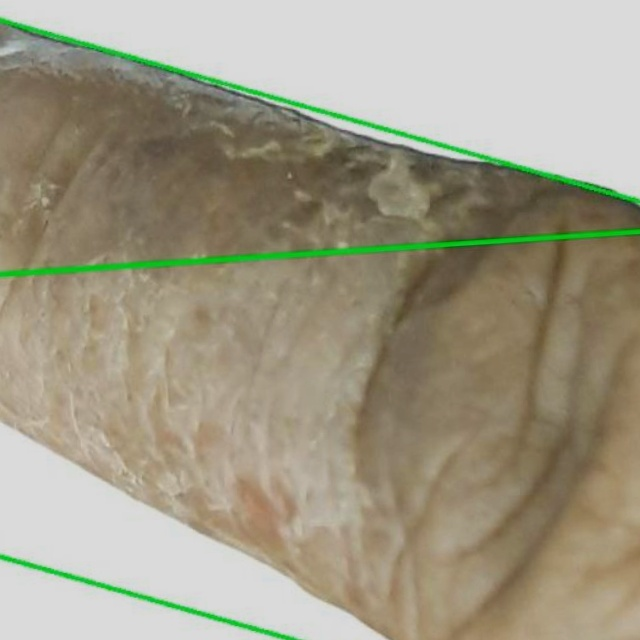Eczema: (0, 17, 639, 639), (0, 0, 639, 273)
